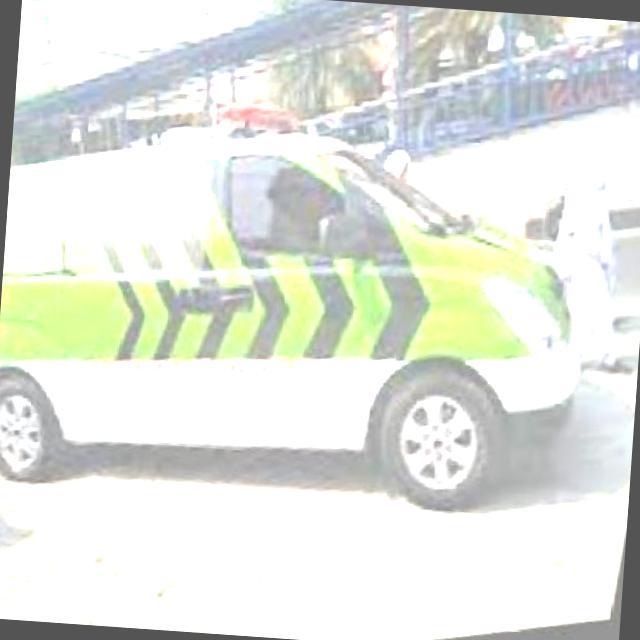emergency-vehicle: (0, 14, 640, 586)
